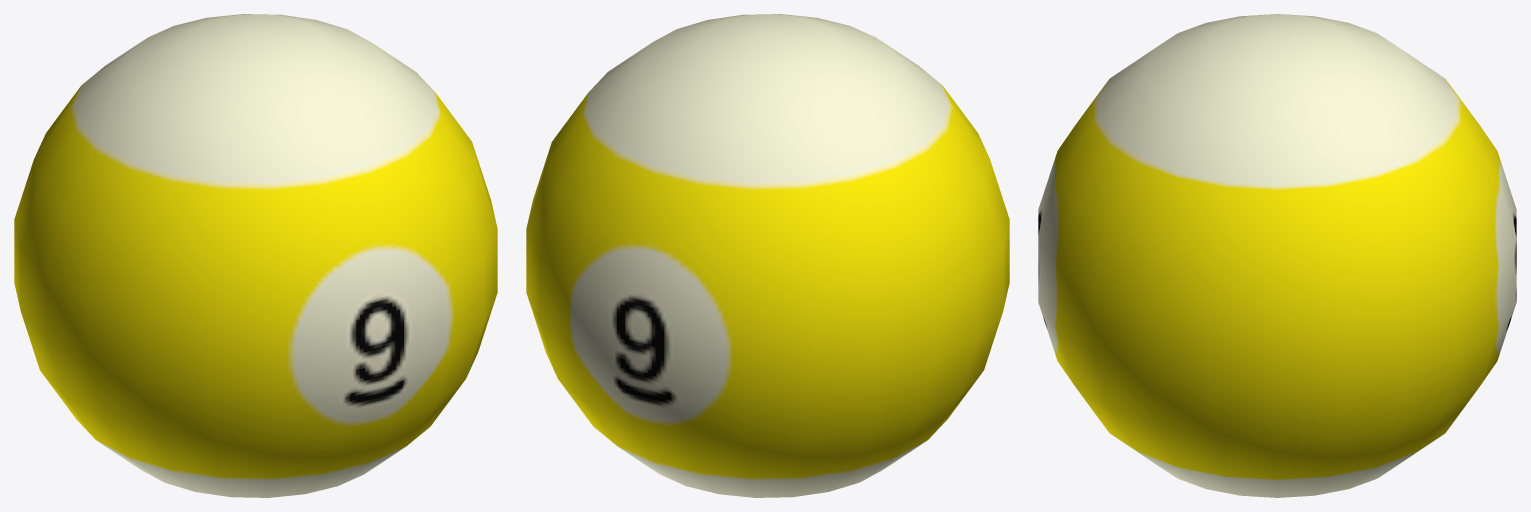
File: Ball_9.FBX
3 renders of one model, left to right at view 1: azimuth 30°, elevation 25°; view 2: azimuth 150°, elevation 25°; view 3: azimuth 270°, elevation 25°, orthographic.
Visible parts, largest first — view 1: Ball_9; view 2: Ball_9; view 3: Ball_9.
Part boxes in pixels (x1,y1,x2,y2): Ball_9: (14, 14, 497, 497); Ball_9: (526, 14, 1009, 497); Ball_9: (1038, 14, 1516, 497).
Size of the model in its own units: 5.64 by 5.7 by 5.58.
